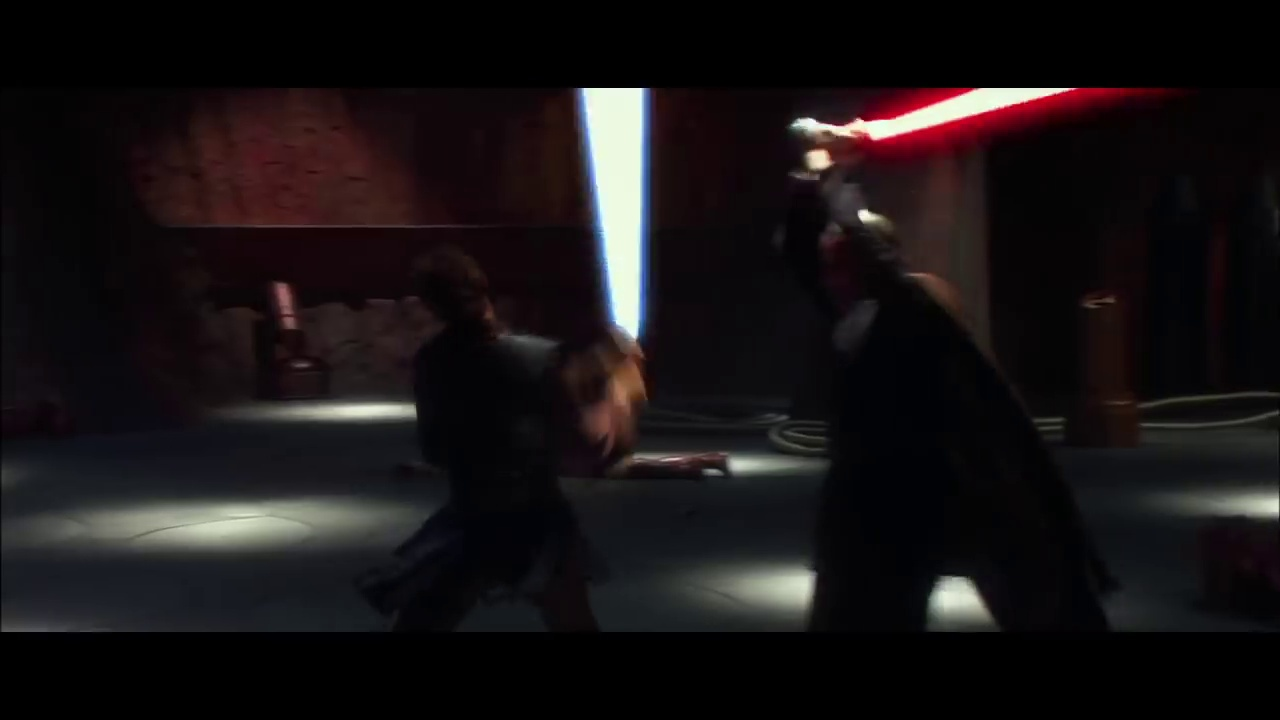lightsaber: (802, 82, 1121, 167), (570, 81, 645, 350)
